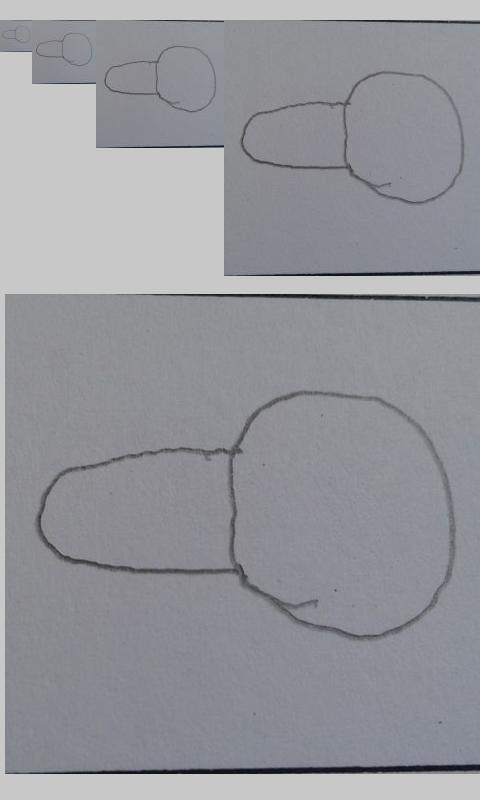switch: (33, 390, 458, 643), (240, 71, 465, 205), (103, 45, 217, 113), (35, 32, 93, 67), (2, 26, 32, 43)
